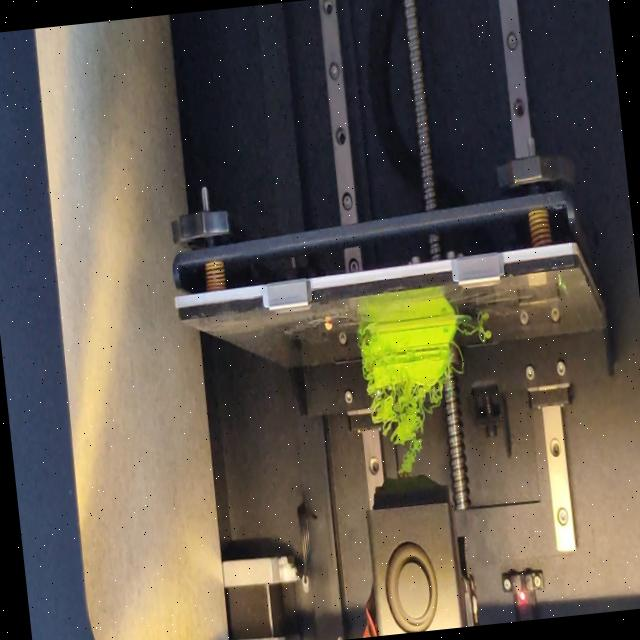spaghetti: (366, 376, 454, 477), (458, 322, 496, 346), (450, 343, 464, 378), (358, 322, 372, 339)
